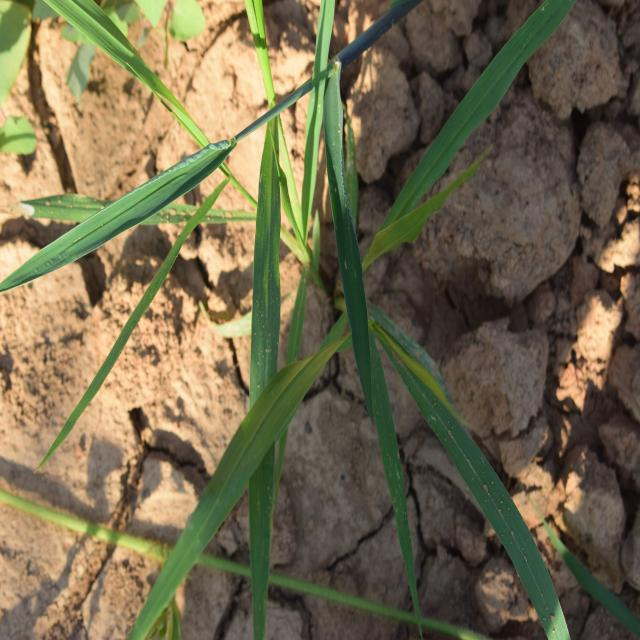green_foxtail: (150, 62, 524, 598)
